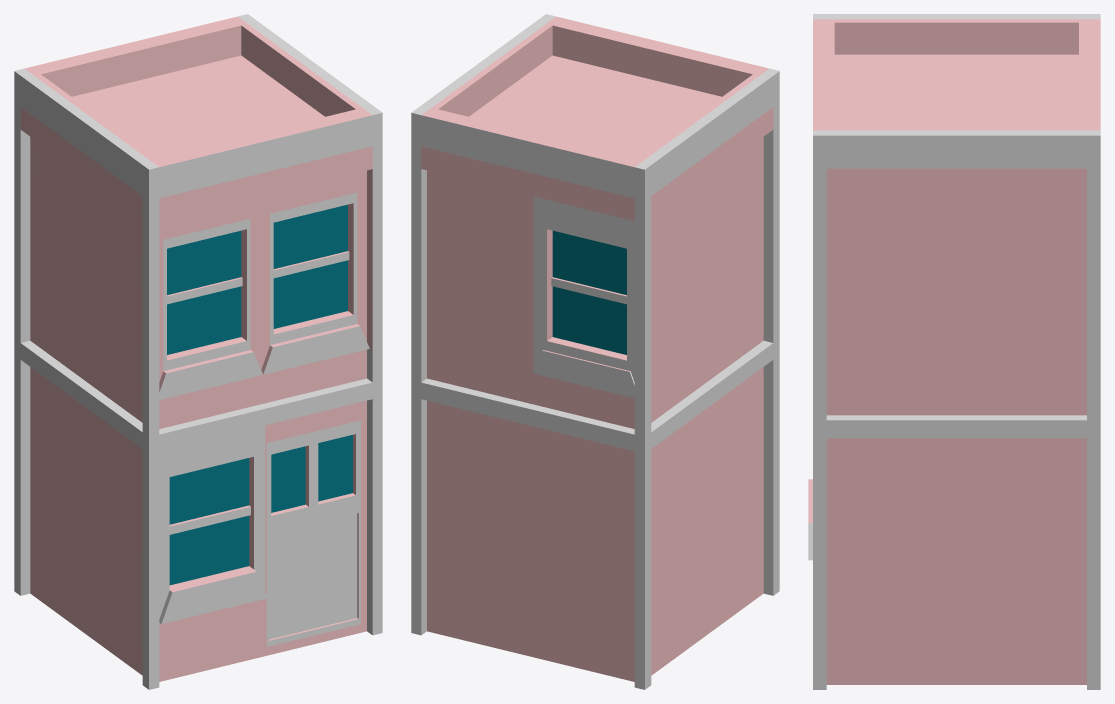
3 renders of one model, left to right at view 1: azimuth 30°, elevation 25°; view 2: azimuth 150°, elevation 25°; view 3: azimuth 270°, elevation 25°, orthographic. The views are drawn at different scales.
Parts seen in each view (by area): view 1: 2; view 2: 2; view 3: 2.
Boxes of the visible parts, x1,y1,x2,y2 form: 2: (14,14,382,689); 2: (411,14,779,689); 2: (808,14,1100,689).
Bounding box in the file's own units: 400 × 851 × 406.
